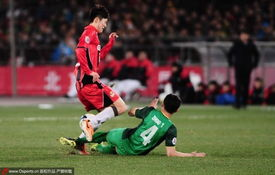fall: (55, 89, 197, 158)
